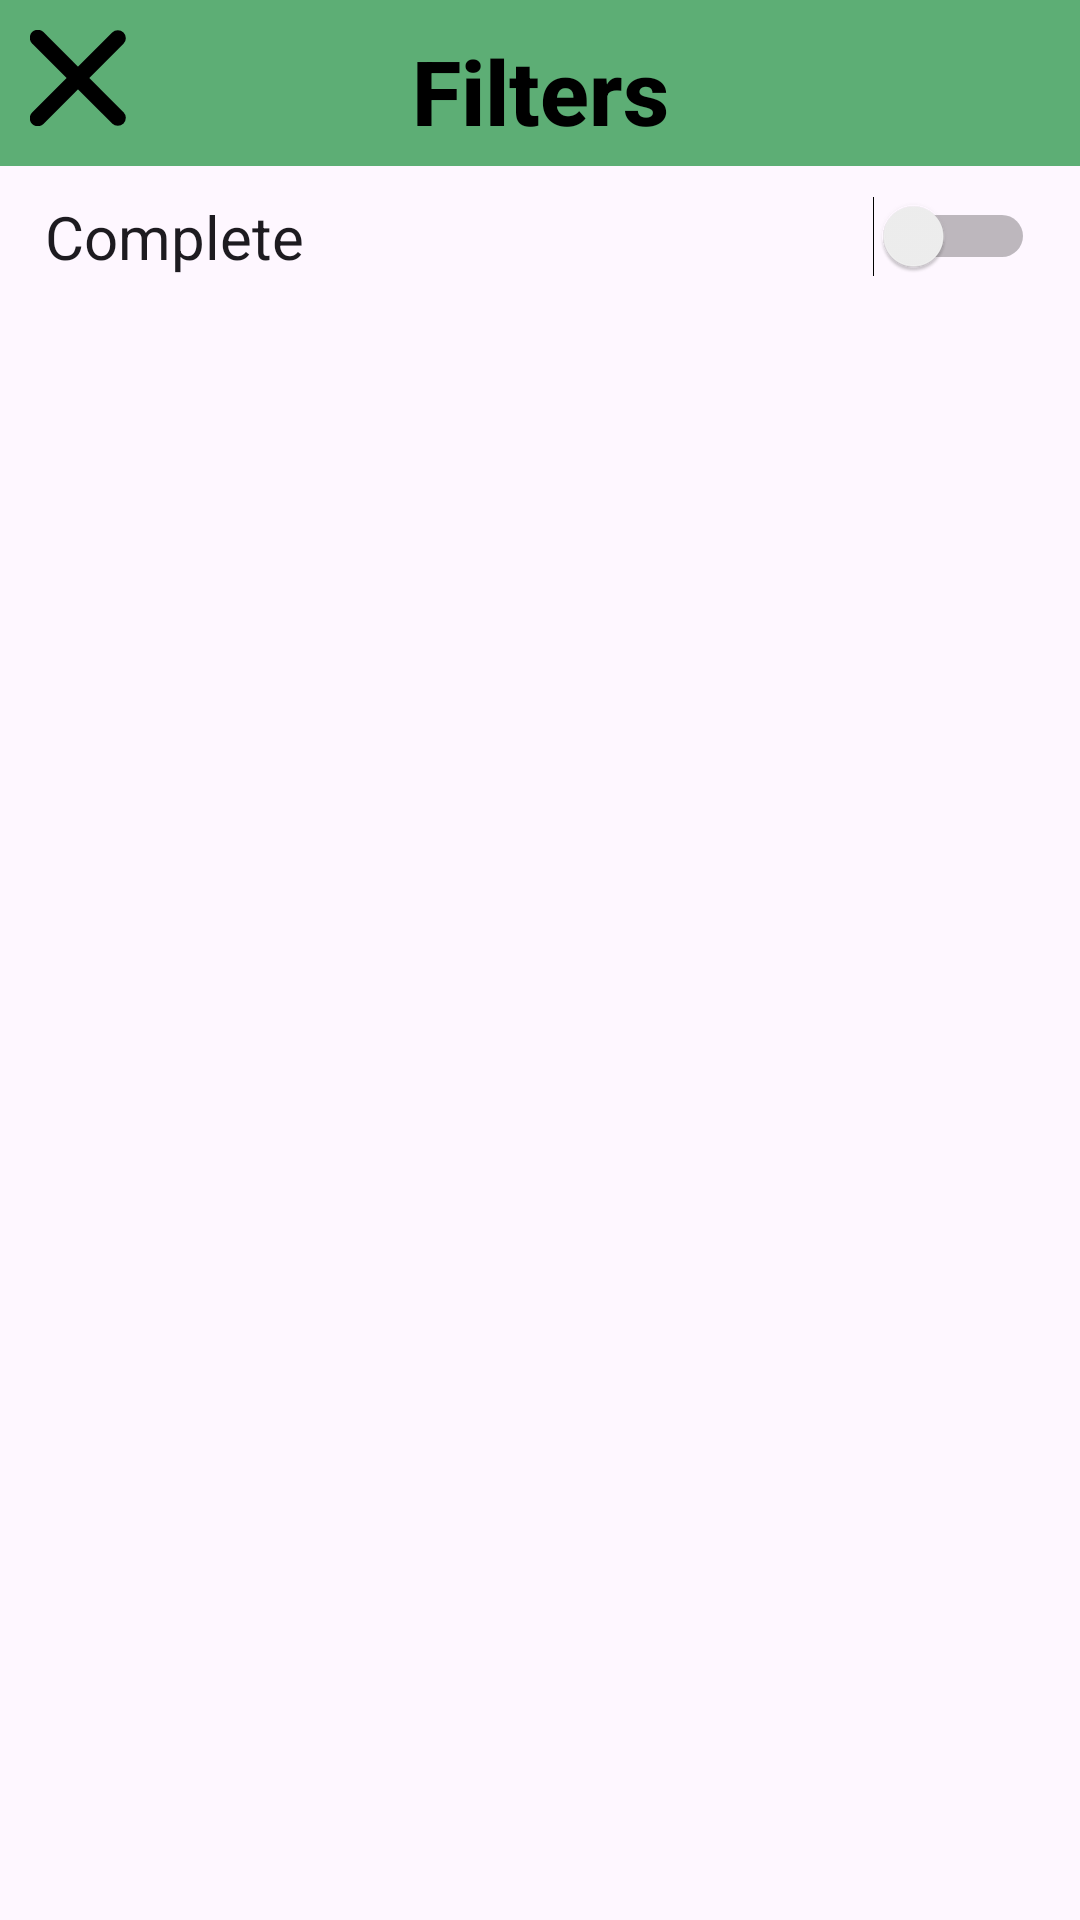

Icon bounding boxes for this 1080px x 1920px phone screenshot, format (x1, y1, x2, y2):
close: (30, 30, 126, 126)
